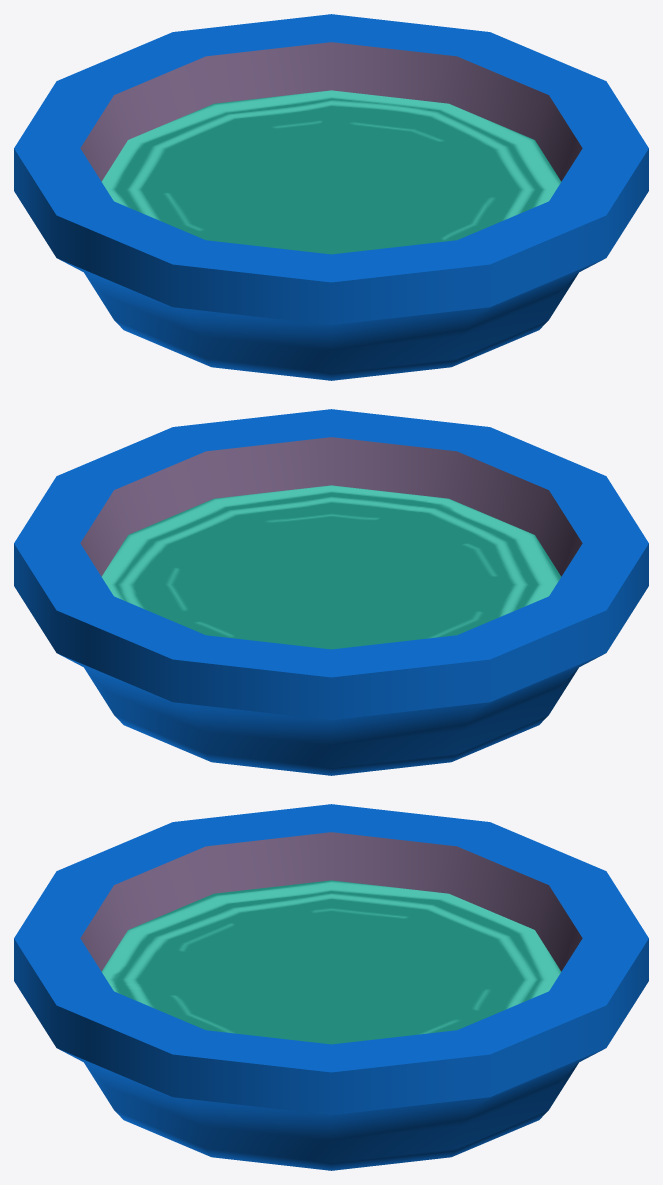
The model's file is Bowl_.fbx.
The picture shows the model from 3 angles, top to bottom: view 1: azimuth 30°, elevation 25°; view 2: azimuth 150°, elevation 25°; view 3: azimuth 270°, elevation 25°; orthographic projection.
Parts seen in each view (by area): view 1: bowl; view 2: bowl; view 3: bowl.
Boxes of the visible parts, x1,y1,x2,y2 form: bowl: (14, 14, 648, 380); bowl: (14, 409, 648, 775); bowl: (14, 804, 648, 1170).
Bounding box in the file's own units: 0.5671 × 0.1293 × 0.5671.
